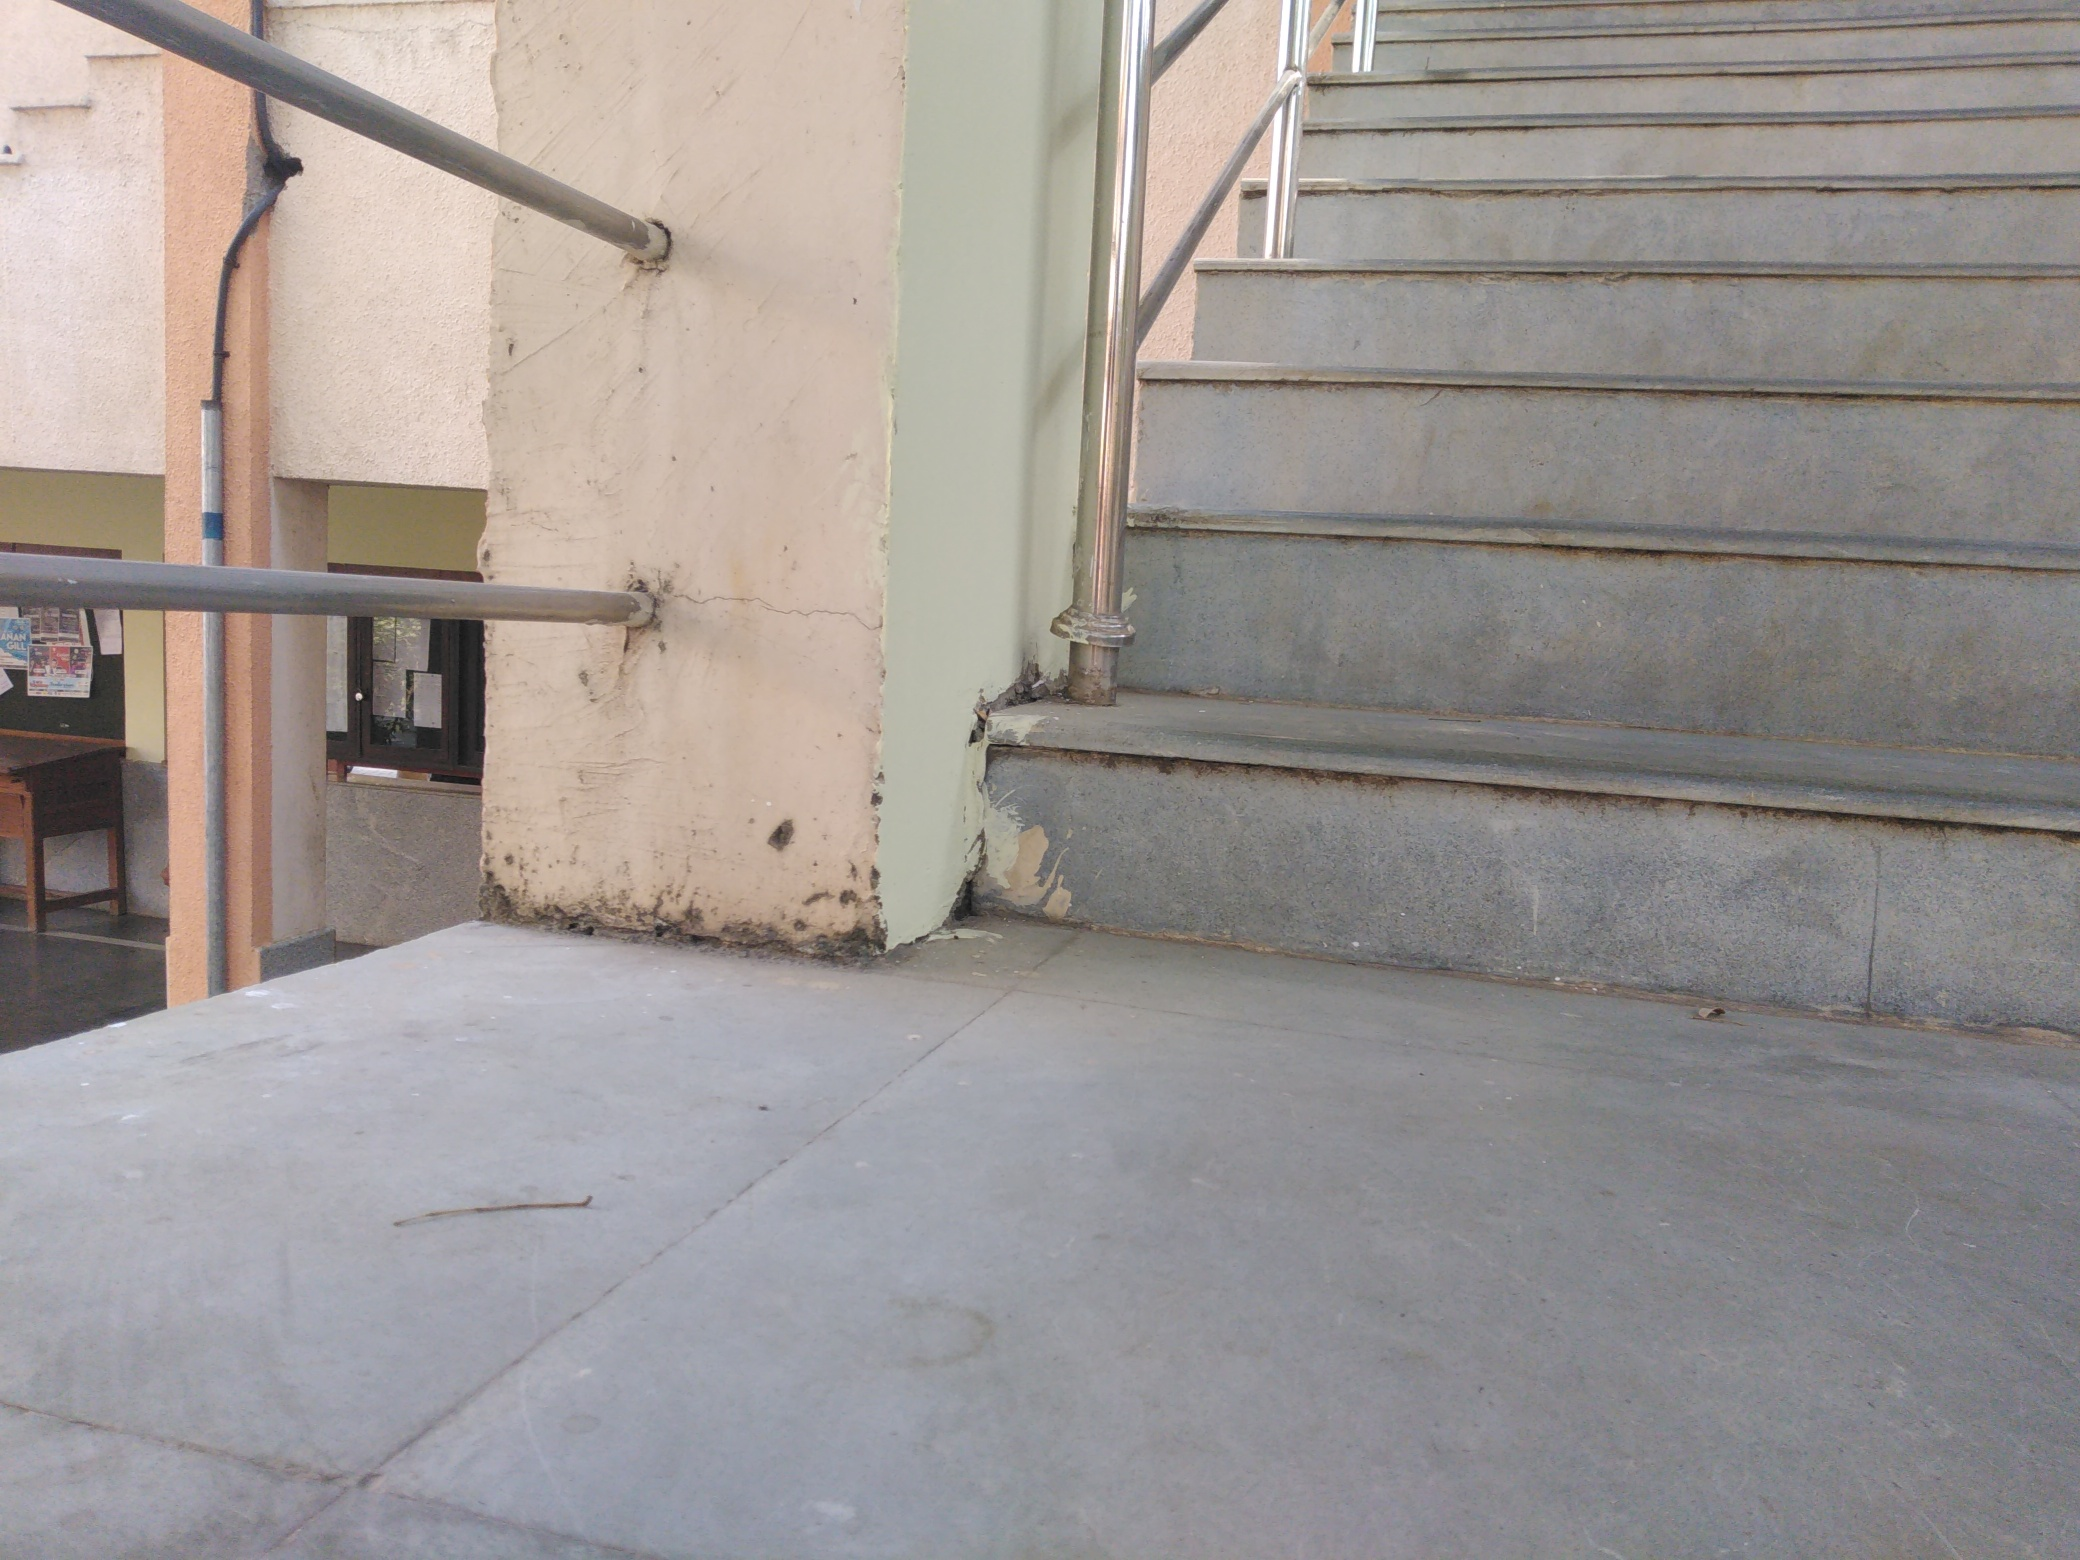stairs_up: (1029, 41, 2065, 1055)
